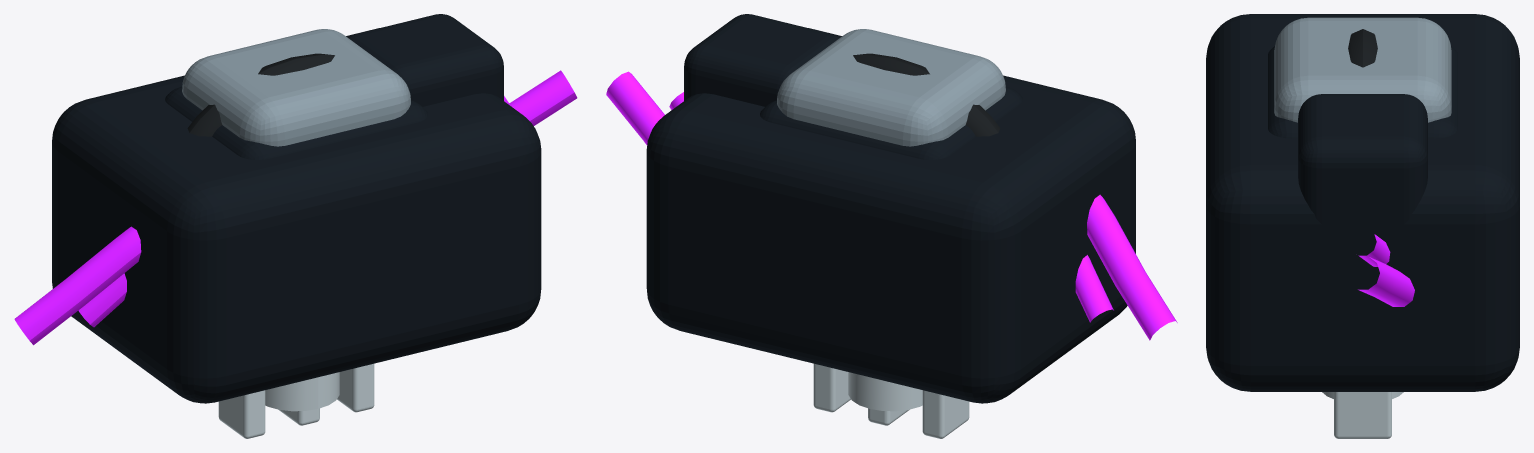
File: electrical_21.glb
3 views of the same model, side by side, from view 1: azimuth 30°, elevation 25°; view 2: azimuth 150°, elevation 25°; view 3: azimuth 270°, elevation 25° (orthographic). The views are drawn at different scales.
Parts seen in each view (by area): view 1: asset_mesh__electrical_1097__reference_body, asset_mesh__electrical_1106__sensor_body, asset_mesh__electrical_1106__connector, asset_mesh__electrical_1096__current_path, asset_mesh__electrical_1105__relay_or_fuse_body, asset_mesh__electrical_1106__sensor_probe, asset_mesh__electrical_1105__blade_1, asset_mesh__electrical_1114__service_element, asset_mesh__electrical_1105__blade_3, asset_mesh__electrical_1101__current_path; view 2: asset_mesh__electrical_1097__reference_body, asset_mesh__electrical_1106__sensor_body, asset_mesh__electrical_1106__connector, asset_mesh__electrical_1096__current_path, asset_mesh__electrical_1105__relay_or_fuse_body, asset_mesh__electrical_1106__sensor_probe, asset_mesh__electrical_1105__blade_1, asset_mesh__electrical_1114__service_element, asset_mesh__electrical_1101__current_path, asset_mesh__electrical_1105__blade_3; view 3: asset_mesh__electrical_1097__reference_body, asset_mesh__electrical_1106__connector, asset_mesh__electrical_1106__sensor_body, asset_mesh__electrical_1105__blade_3, asset_mesh__electrical_1105__relay_or_fuse_body, asset_mesh__electrical_1096__current_path, asset_mesh__electrical_1114__service_element, asset_mesh__electrical_1101__current_path.
Boxes of the visible parts, box(x1,y1,x2,y2) form: asset_mesh__electrical_1097__reference_body: box(52, 28, 541, 403); asset_mesh__electrical_1106__sensor_body: box(182, 29, 410, 146); asset_mesh__electrical_1106__connector: box(347, 14, 503, 106); asset_mesh__electrical_1096__current_path: box(14, 70, 577, 345); asset_mesh__electrical_1105__relay_or_fuse_body: box(165, 86, 427, 159); asset_mesh__electrical_1106__sensor_probe: box(265, 372, 339, 411); asset_mesh__electrical_1105__blade_1: box(218, 390, 265, 438); asset_mesh__electrical_1114__service_element: box(187, 53, 334, 136); asset_mesh__electrical_1105__blade_3: box(337, 363, 374, 412); asset_mesh__electrical_1101__current_path: box(78, 96, 511, 327); asset_mesh__electrical_1097__reference_body: box(646, 28, 1135, 403); asset_mesh__electrical_1106__sensor_body: box(777, 29, 1005, 146); asset_mesh__electrical_1106__connector: box(684, 14, 840, 106); asset_mesh__electrical_1096__current_path: box(606, 71, 1177, 340); asset_mesh__electrical_1105__relay_or_fuse_body: box(760, 86, 1022, 159); asset_mesh__electrical_1106__sensor_probe: box(848, 372, 922, 411); asset_mesh__electrical_1105__blade_1: box(922, 390, 969, 438); asset_mesh__electrical_1114__service_element: box(853, 53, 1000, 136); asset_mesh__electrical_1101__current_path: box(669, 92, 1113, 322); asset_mesh__electrical_1105__blade_3: box(813, 363, 850, 412); asset_mesh__electrical_1097__reference_body: box(1206, 14, 1519, 391); asset_mesh__electrical_1106__connector: box(1298, 94, 1427, 236); asset_mesh__electrical_1106__sensor_body: box(1274, 17, 1451, 122); asset_mesh__electrical_1105__blade_3: box(1334, 392, 1391, 438); asset_mesh__electrical_1105__relay_or_fuse_body: box(1268, 46, 1457, 138); asset_mesh__electrical_1096__current_path: box(1358, 257, 1414, 306); asset_mesh__electrical_1114__service_element: box(1348, 29, 1377, 67); asset_mesh__electrical_1101__current_path: box(1358, 234, 1390, 266).
Size of the model in its own units: 1.64 by 0.9931 by 0.7728.
